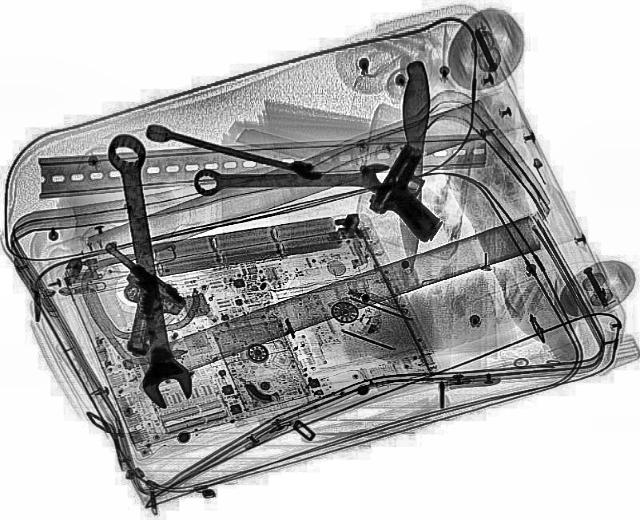Gun: (44, 238, 205, 360), (356, 143, 476, 241)
Knife: (398, 59, 430, 268)
Wrench: (104, 131, 194, 411), (142, 123, 324, 182), (192, 162, 396, 196)
